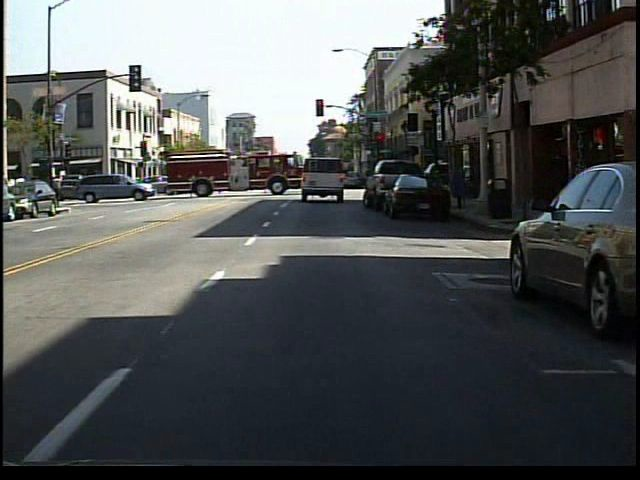person: (49, 171, 65, 208)
